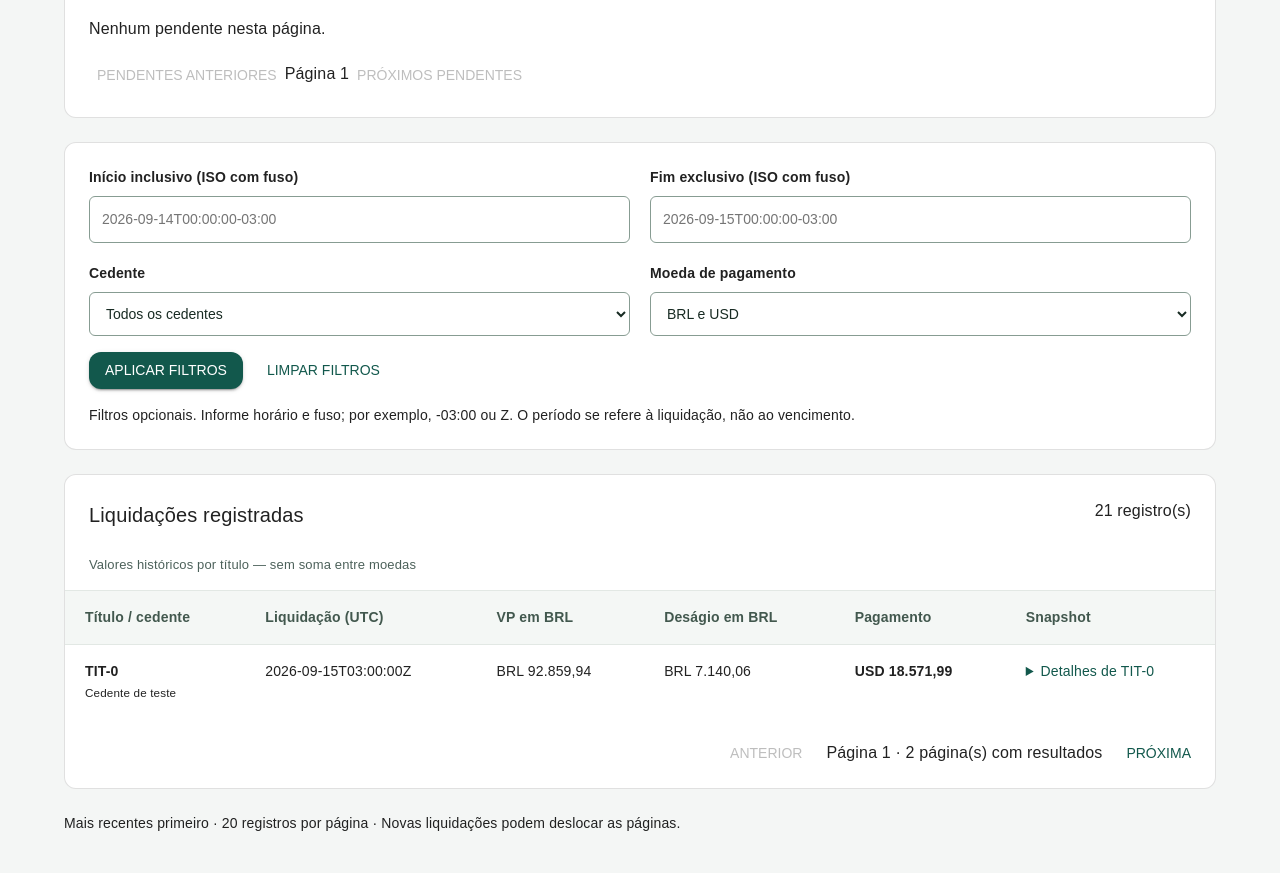
Test: displays a persisted snapshot and navigates to the next page
(page scrolled)
Expected: the text "USD 18.571,99" is shown, [855,663,952,679]
Expected: the button "Anterior" is disabled, [722,735,810,772]
Click the button "Próxima" at (1159, 753), box [1118,735,1199,772]
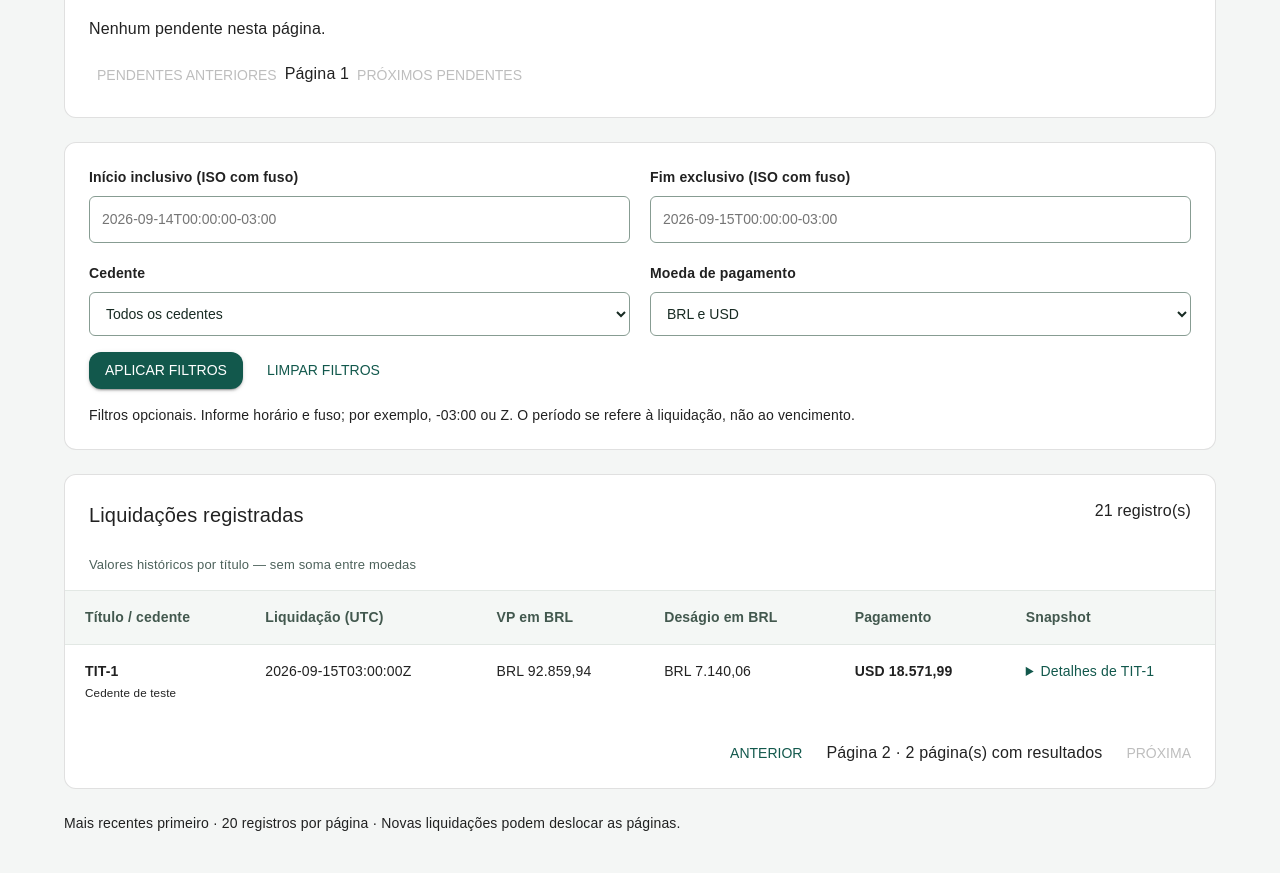
Now the text "TIT-1" is shown, box [85,663,118,679]
Now the button "Próxima" is disabled, box [1118,735,1199,772]
